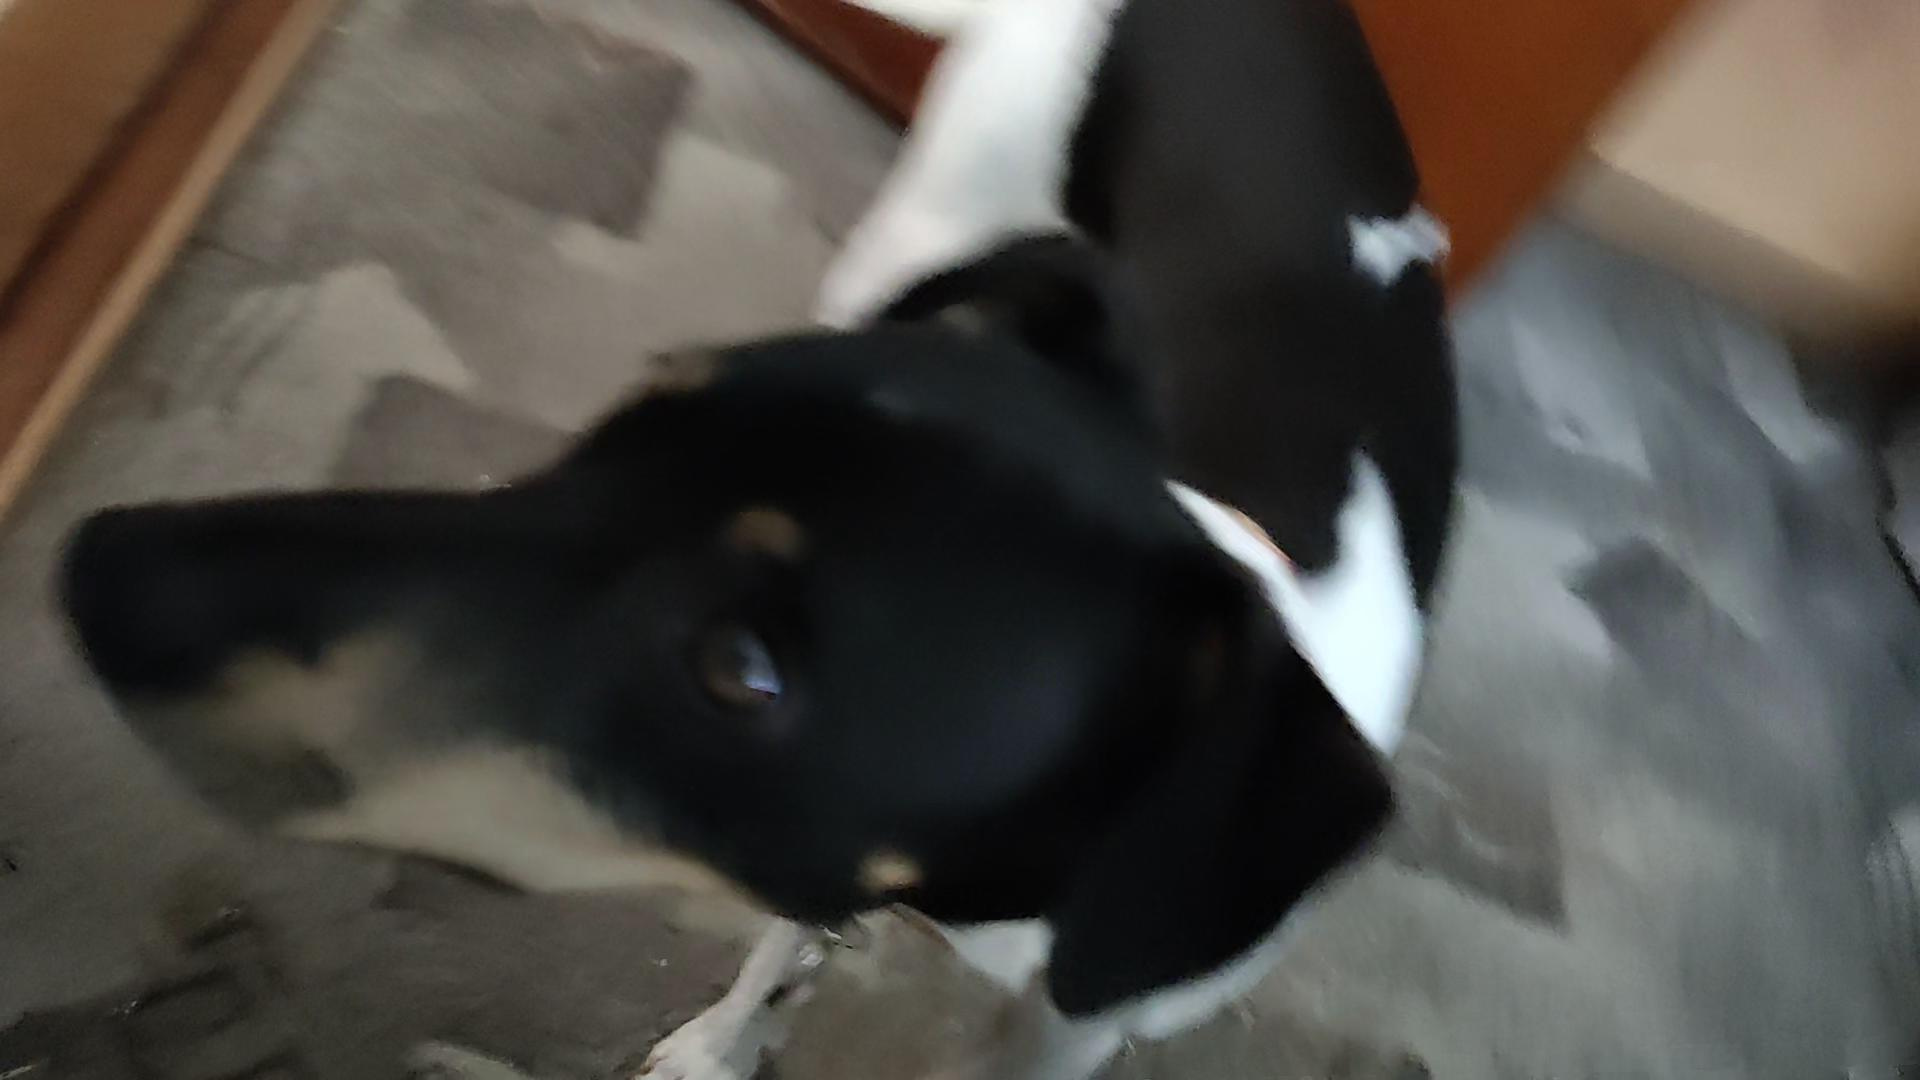Dog: (49, 0, 1487, 1080)
